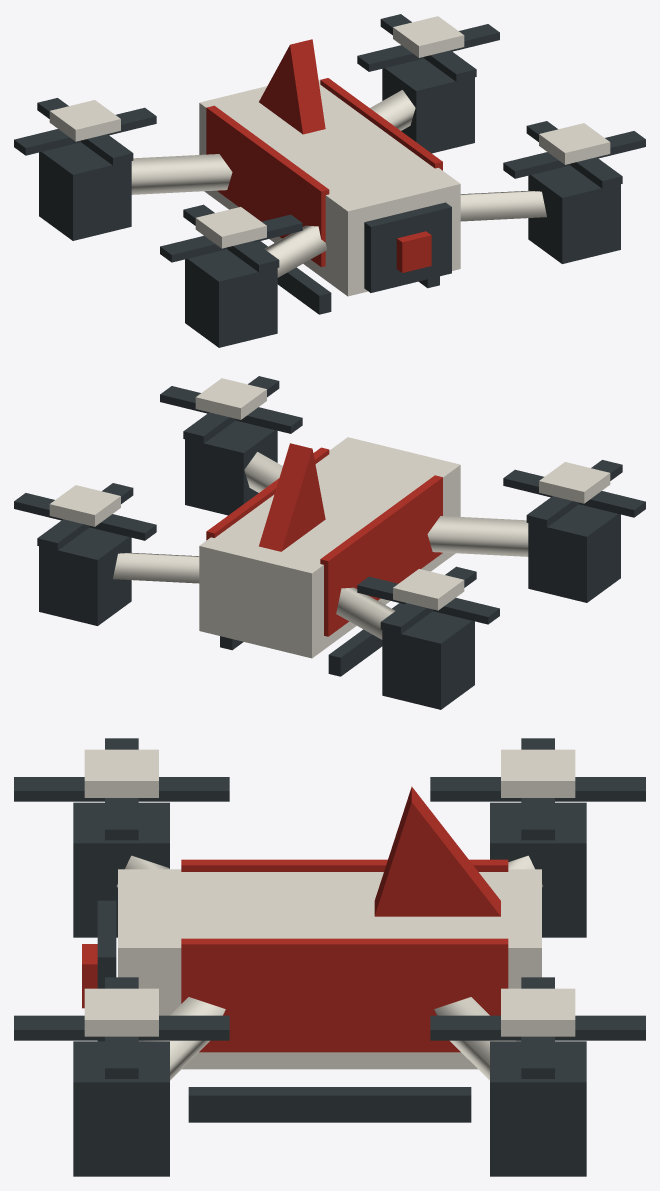
The picture shows the model from 3 angles, top to bottom: view 1: azimuth 30°, elevation 25°; view 2: azimuth 150°, elevation 25°; view 3: azimuth 270°, elevation 25°; orthographic projection. The views are drawn at different scales.
Visible parts, largest first — view 1: swarm-drone-fleet-machine, swarm-drone-fleet-armor, swarm-drone-fleet-red, rotor--1-1-fleet-machine, rotor-1--1-fleet-machine, rotor-1-1-fleet-machine, rotor--1--1-fleet-machine, rotor--1--1-fleet-armor, rotor-1--1-fleet-armor, rotor-1-1-fleet-armor, rotor--1-1-fleet-armor; view 2: swarm-drone-fleet-armor, swarm-drone-fleet-machine, swarm-drone-fleet-red, rotor--1--1-fleet-machine, rotor-1-1-fleet-machine, rotor-1--1-fleet-machine, rotor--1-1-fleet-machine, rotor--1-1-fleet-armor, rotor-1-1-fleet-armor, rotor-1--1-fleet-armor, rotor--1--1-fleet-armor; view 3: swarm-drone-fleet-machine, swarm-drone-fleet-red, swarm-drone-fleet-armor, rotor-1--1-fleet-machine, rotor-1-1-fleet-machine, rotor--1--1-fleet-machine, rotor--1-1-fleet-machine, rotor--1--1-fleet-armor, rotor--1-1-fleet-armor, rotor-1--1-fleet-armor, rotor-1-1-fleet-armor.
Part boxes in pixels (x1,y1,x2,y2): swarm-drone-fleet-machine: [39, 58, 620, 347]; swarm-drone-fleet-armor: [131, 80, 546, 296]; swarm-drone-fleet-red: [206, 39, 442, 272]; rotor--1-1-fleet-machine: [160, 204, 302, 272]; rotor-1--1-fleet-machine: [357, 14, 499, 81]; rotor-1-1-fleet-machine: [503, 121, 645, 188]; rotor--1--1-fleet-machine: [14, 98, 156, 165]; rotor--1--1-fleet-armor: [49, 100, 120, 141]; rotor-1--1-fleet-armor: [393, 16, 464, 57]; rotor-1-1-fleet-armor: [539, 123, 610, 164]; rotor--1-1-fleet-armor: [195, 207, 266, 248]; swarm-drone-fleet-armor: [113, 437, 528, 658]; swarm-drone-fleet-machine: [39, 420, 620, 709]; swarm-drone-fleet-red: [206, 443, 442, 636]; rotor--1--1-fleet-machine: [357, 566, 499, 634]; rotor-1-1-fleet-machine: [160, 376, 302, 443]; rotor-1--1-fleet-machine: [14, 483, 156, 550]; rotor--1-1-fleet-machine: [503, 460, 645, 527]; rotor--1-1-fleet-armor: [539, 462, 610, 503]; rotor-1-1-fleet-armor: [195, 378, 266, 419]; rotor-1--1-fleet-armor: [49, 485, 120, 526]; rotor--1--1-fleet-armor: [393, 569, 464, 610]; swarm-drone-fleet-machine: [73, 802, 586, 1176]; swarm-drone-fleet-red: [82, 786, 508, 1052]; swarm-drone-fleet-armor: [116, 855, 543, 1080]; rotor-1--1-fleet-machine: [430, 977, 645, 1078]; rotor-1-1-fleet-machine: [14, 977, 229, 1078]; rotor--1--1-fleet-machine: [430, 738, 645, 840]; rotor--1-1-fleet-machine: [14, 738, 229, 840]; rotor--1--1-fleet-armor: [501, 749, 575, 797]; rotor--1-1-fleet-armor: [84, 749, 158, 797]; rotor-1--1-fleet-armor: [501, 988, 575, 1036]; rotor-1-1-fleet-armor: [84, 988, 158, 1036].
Bounding box in the file's own units: 4.68 × 1.89 × 3.79.
